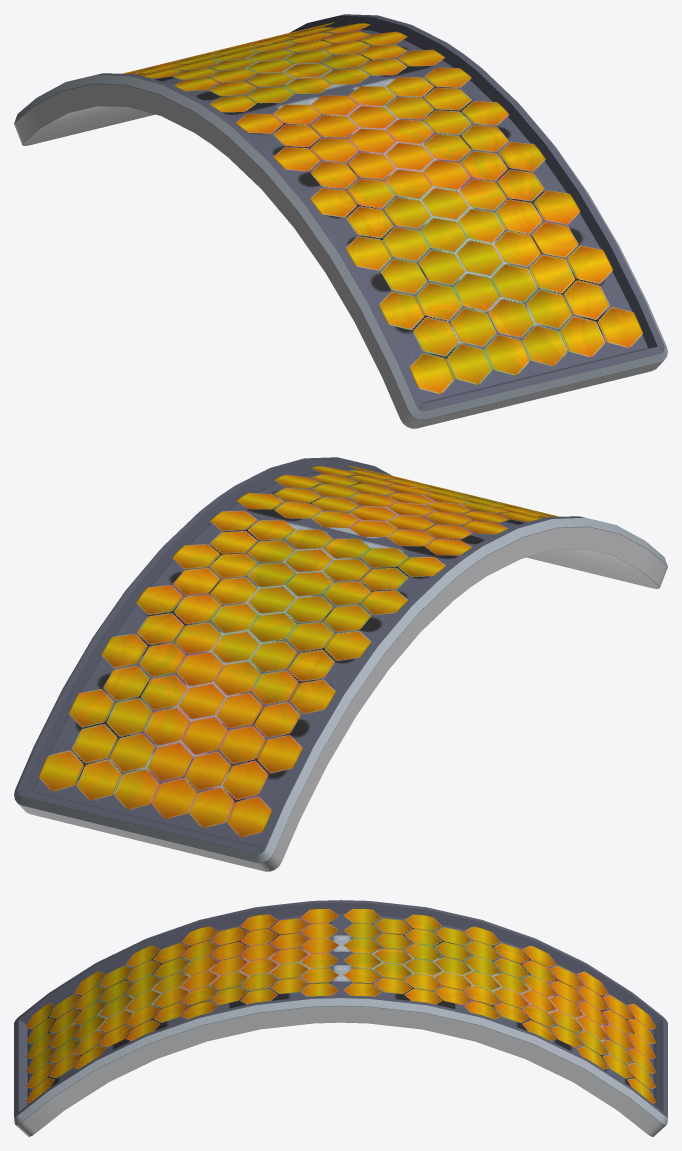
The model's file is Solar_Panel_04.FBX.
3 renders of one model, top to bottom at view 1: azimuth 30°, elevation 25°; view 2: azimuth 150°, elevation 25°; view 3: azimuth 270°, elevation 25°, orthographic. The views are drawn at different scales.
Visible parts, largest first — view 1: Solar_Panel_04; view 2: Solar_Panel_04; view 3: Solar_Panel_04.
Part boxes in pixels (<box>): Solar_Panel_04: <box>14,14,667,428</box>; Solar_Panel_04: <box>14,457,667,871</box>; Solar_Panel_04: <box>14,900,667,1136</box>.
Bounding box in the file's own units: 2.23 × 1.42 × 6.02.
